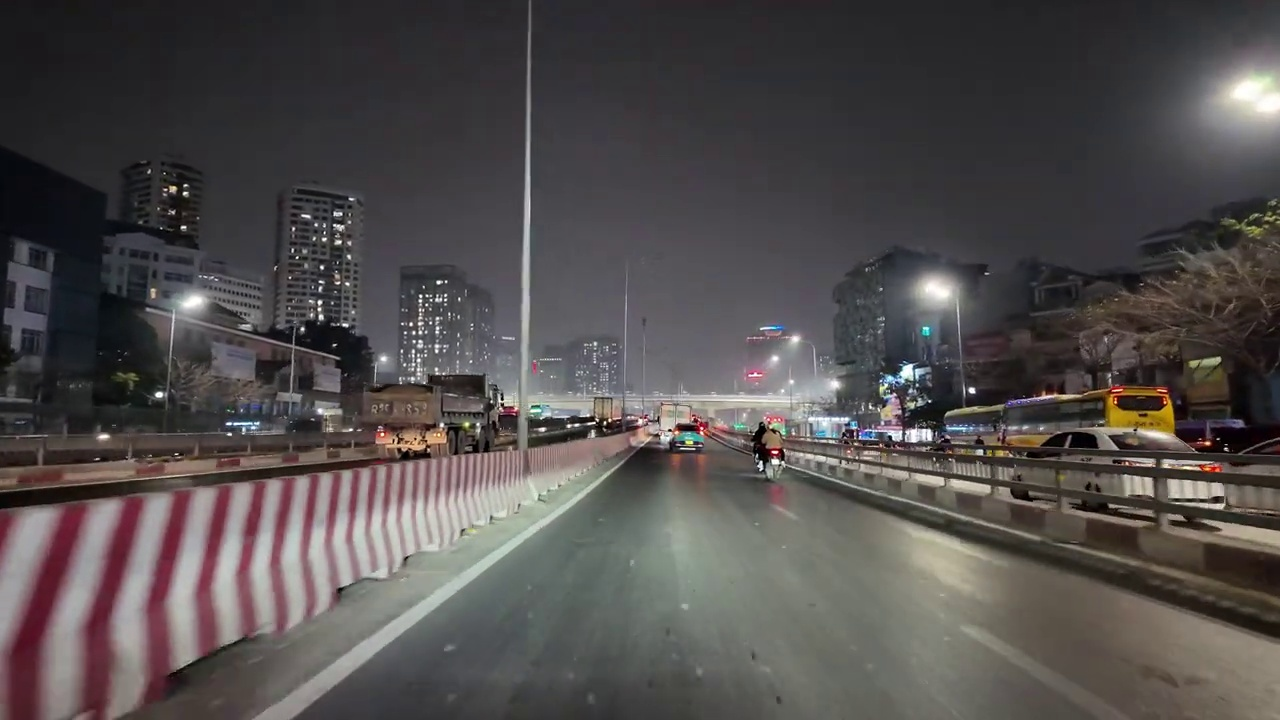acesa: (1230, 74, 1279, 118), (916, 276, 954, 306), (180, 292, 208, 315)
